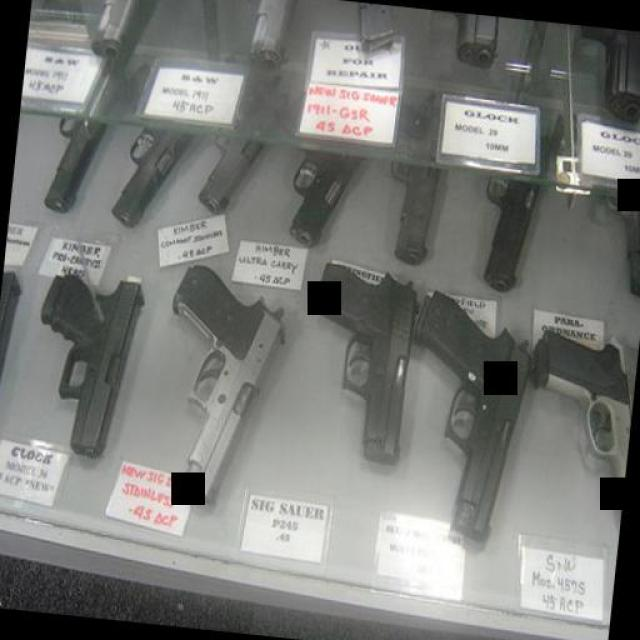gun: (391, 285, 529, 563), (150, 258, 299, 510), (514, 312, 640, 522), (298, 261, 420, 465), (22, 266, 146, 458), (344, 81, 460, 260), (268, 71, 378, 248), (106, 45, 204, 229), (190, 42, 284, 218), (566, 27, 640, 132), (445, 13, 507, 82)
